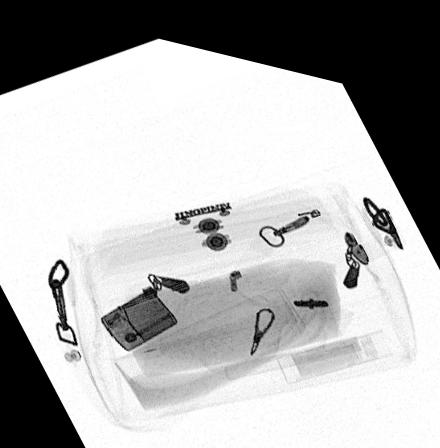Lighter: (99, 281, 178, 346)
